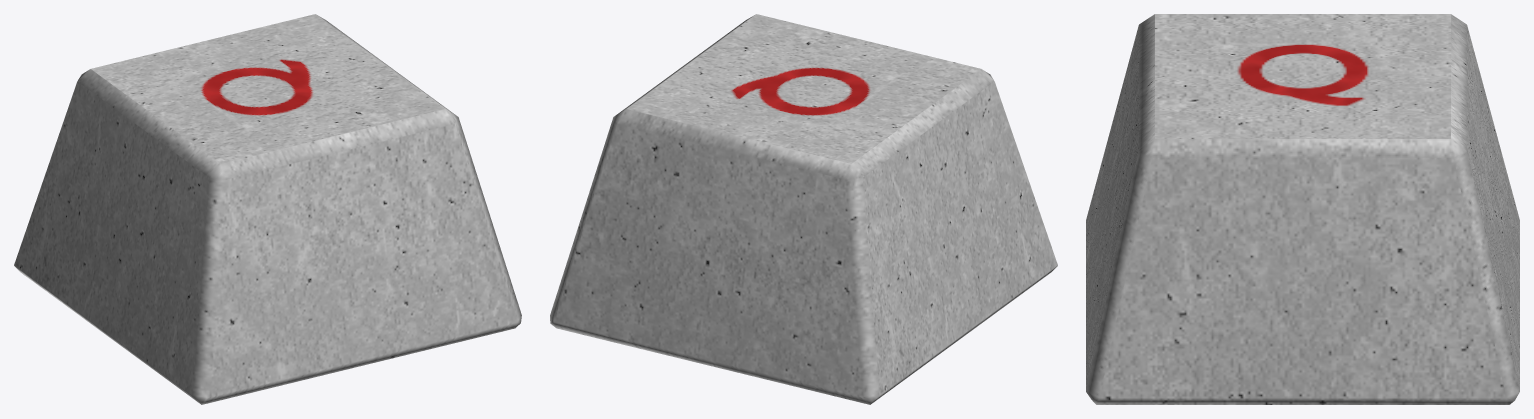
Rendered from concrete_q_button.glb.
3 views of the same model, side by side, from view 1: azimuth 30°, elevation 25°; view 2: azimuth 150°, elevation 25°; view 3: azimuth 270°, elevation 25° (orthographic). The views are drawn at different scales.
Visible parts, largest first — view 1: qbut_low; view 2: qbut_low; view 3: qbut_low.
Boxes of the visible parts, x1,y1,x2,y2 form: qbut_low: [14, 14, 521, 404]; qbut_low: [550, 14, 1057, 404]; qbut_low: [1086, 14, 1519, 404].
Size of the model in its own units: 0.9871 by 0.6054 by 0.9871.
Materials: 1 (1 with a texture image).
